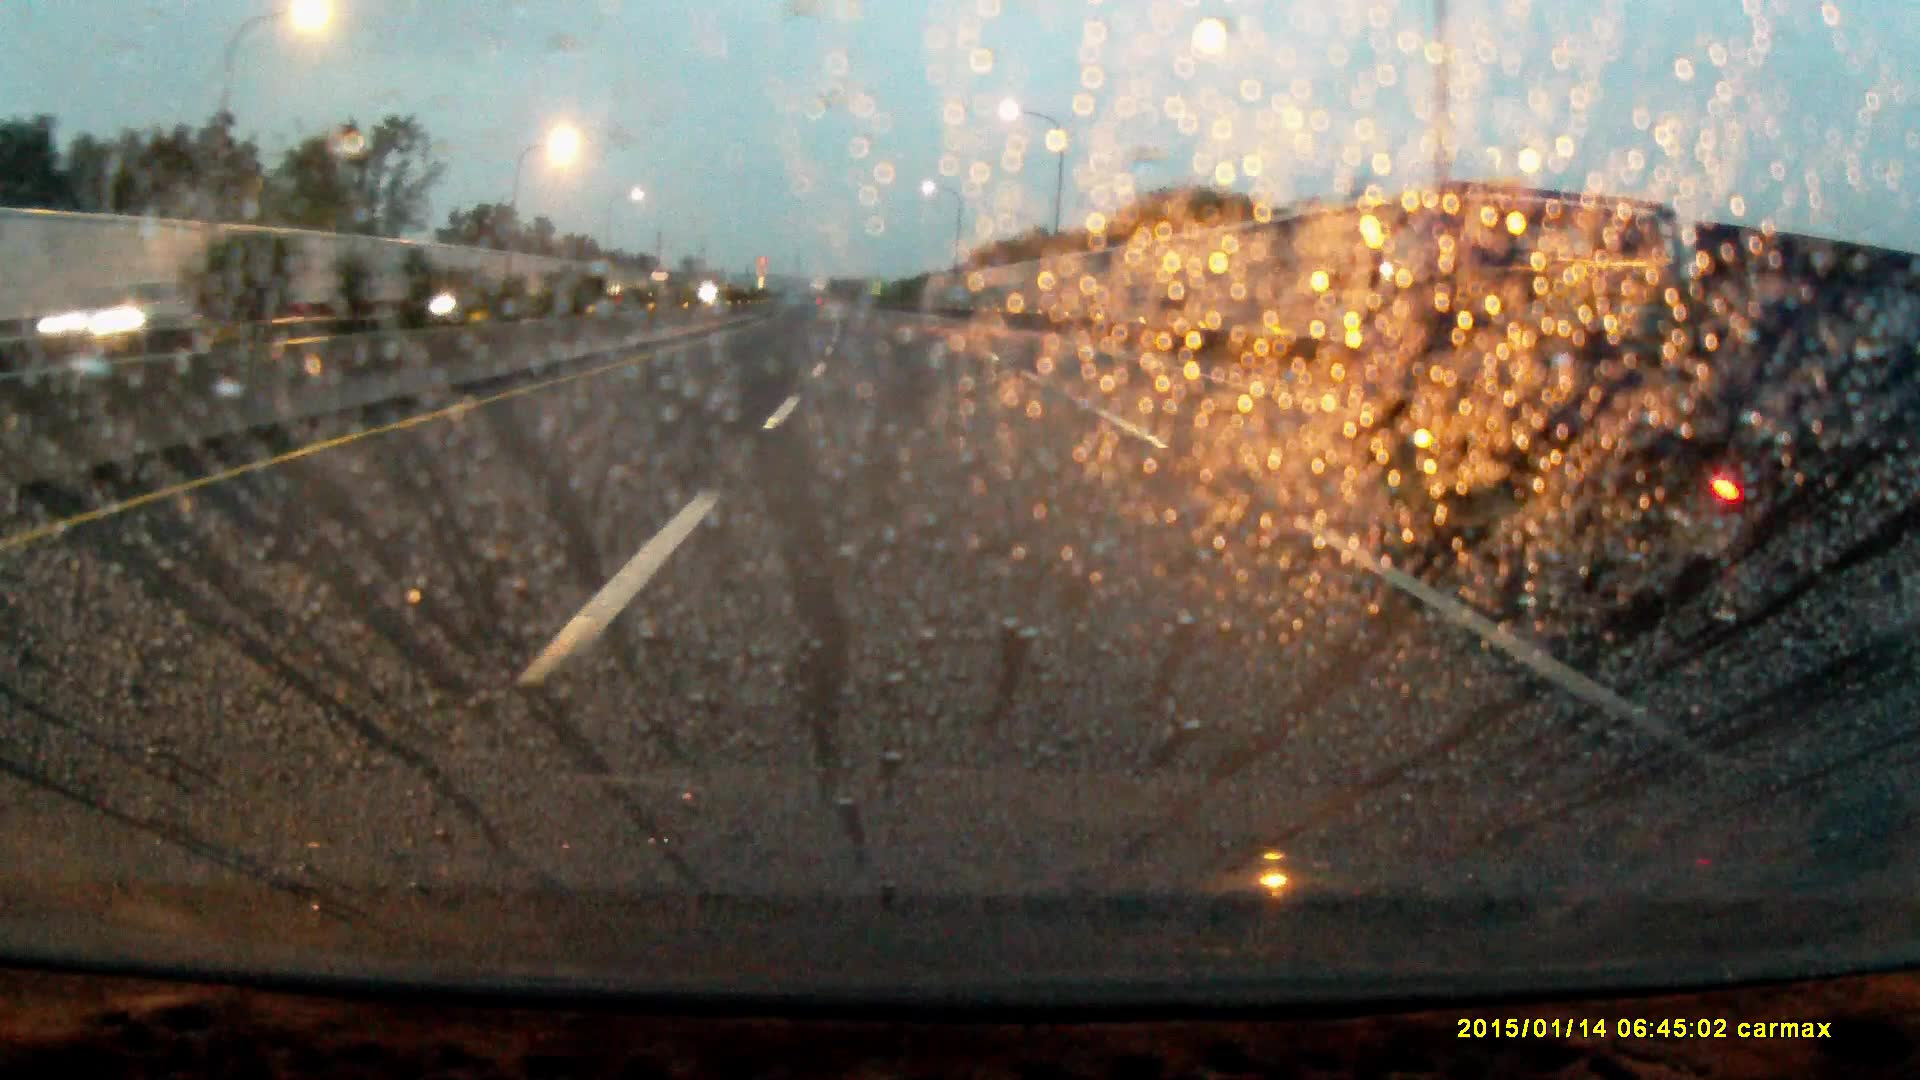vehicle: (1328, 185, 1920, 622), (38, 277, 200, 335), (418, 265, 498, 316), (650, 270, 675, 301)
